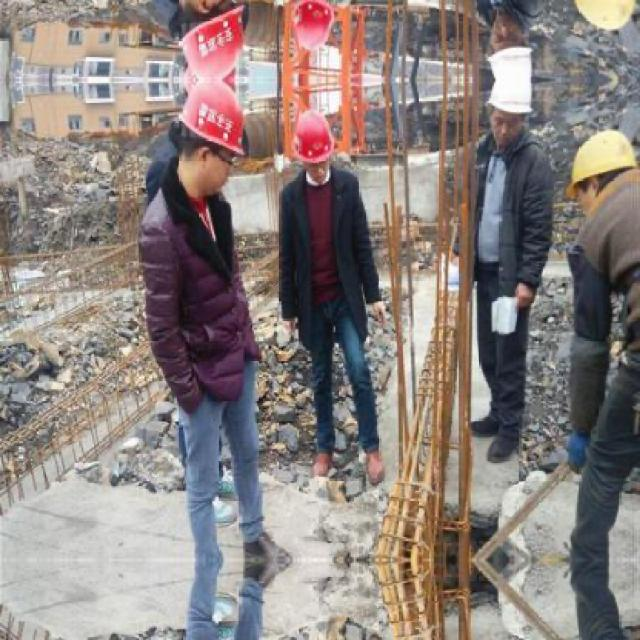helmet: (166, 80, 260, 203), (563, 114, 640, 231), (166, 0, 262, 82), (562, 0, 640, 47), (288, 108, 338, 175), (485, 80, 537, 142), (485, 18, 537, 80), (288, 0, 340, 54)
